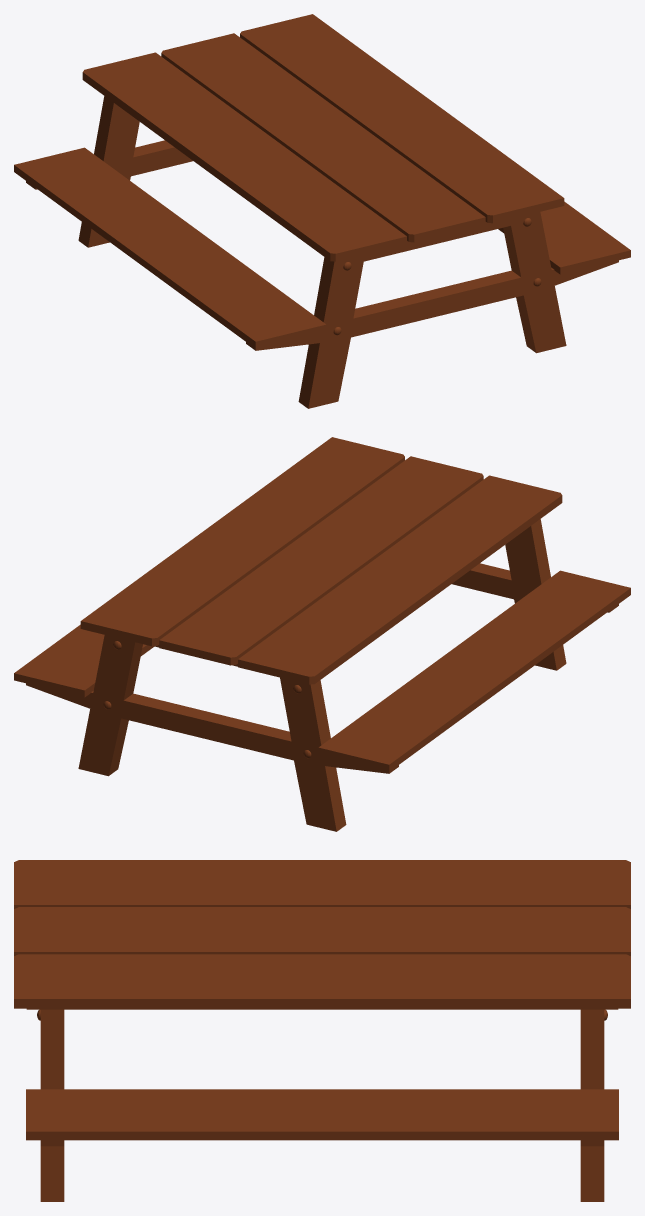
The model's file is picnic.fbx.
The picture shows the model from 3 angles, top to bottom: view 1: azimuth 30°, elevation 25°; view 2: azimuth 150°, elevation 25°; view 3: azimuth 270°, elevation 25°; orthographic projection. The views are drawn at different scales.
Parts seen in each view (by area): view 1: Panca picnic; view 2: Panca picnic; view 3: Panca picnic.
Part boxes in pixels (x1,y1,x2,y2): Panca picnic: (14,14,630,408); Panca picnic: (14,437,630,831); Panca picnic: (14,860,630,1201).
Bounding box in the file's own units: 278 × 112 × 322.
1 material, 1 textured.
